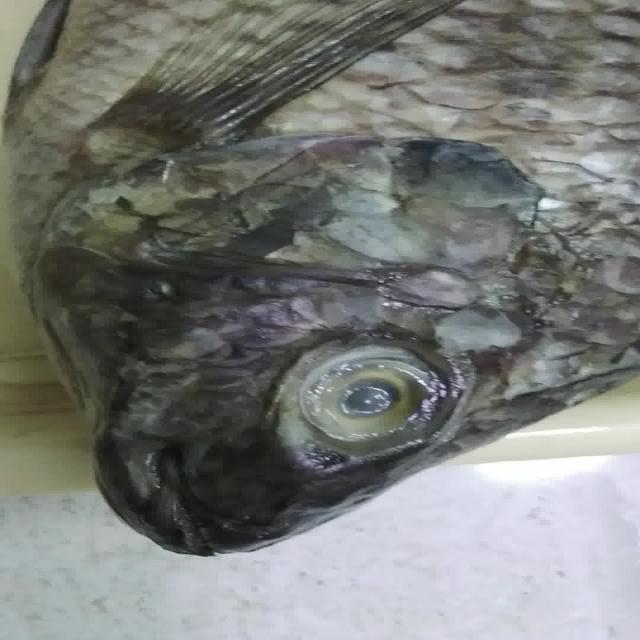Non-Fresh: (275, 326, 466, 470)
